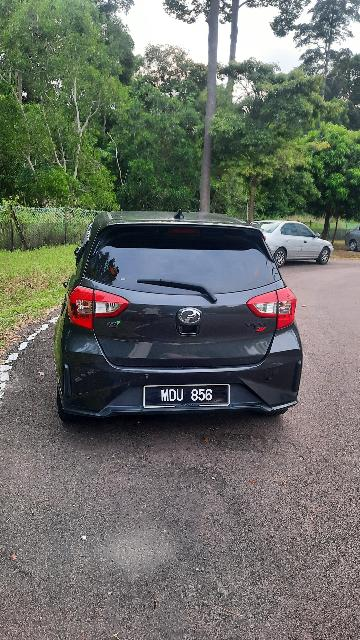License_Plate: (143, 383, 231, 408)
car: (53, 211, 304, 422)
